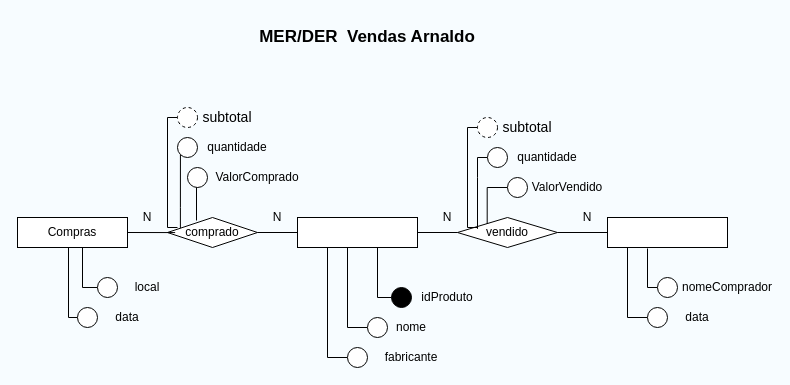
This 790x385 diagram has some shape labels left out. Each missing label, with the centre of its shape:
"Produtos" belongs at point (357, 232).
"Vendas" belongs at point (667, 232).
